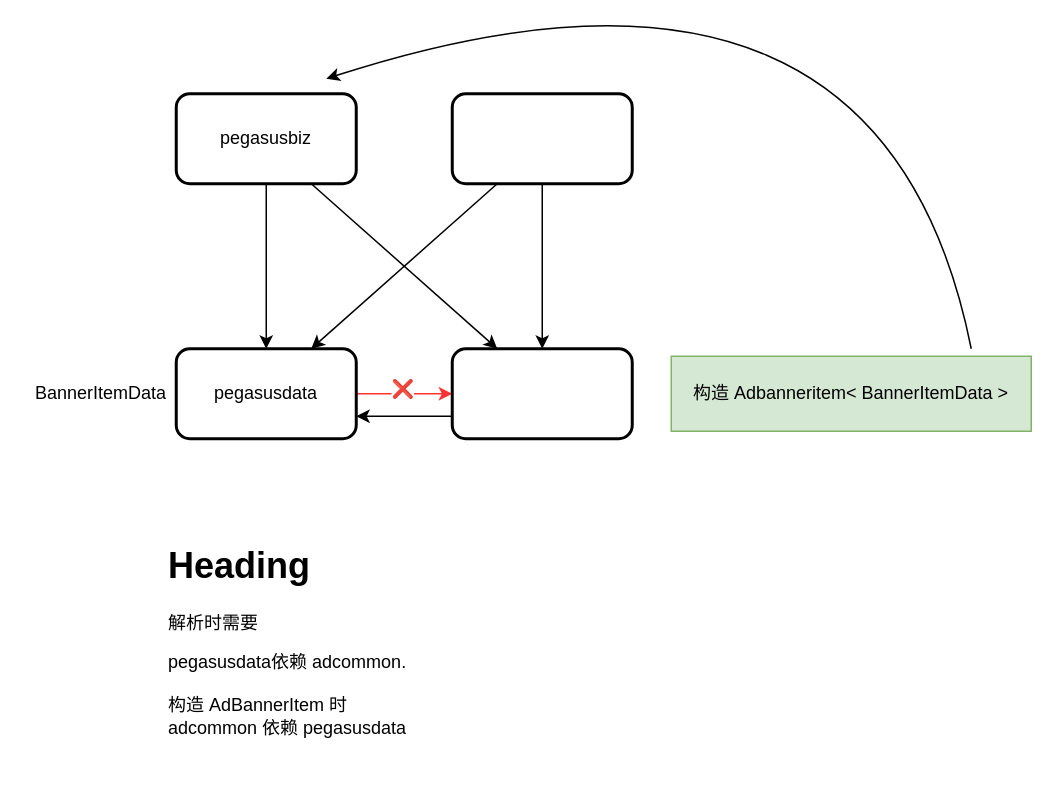
The diagram is 1058 pixels wide and 795 high, and some of its shapes have lost their labels. Each missing label, with the centre of its shape:
Ad-biz: the point at 541,138
adcommon: the point at 541,393
